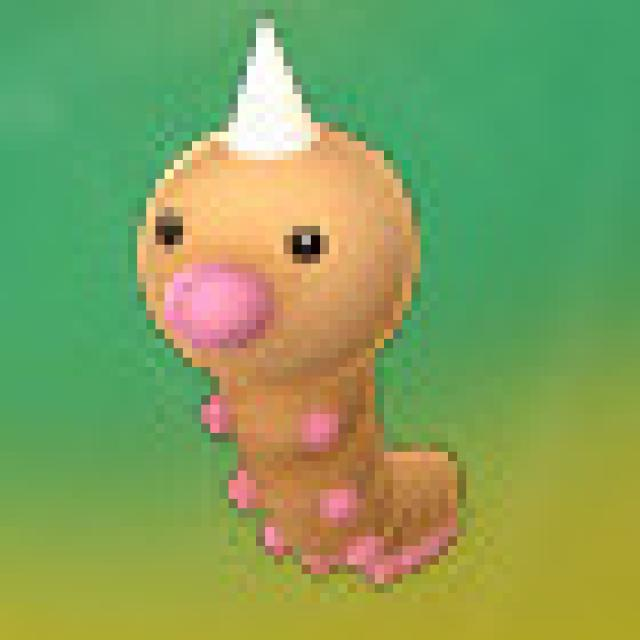Weedle: (133, 16, 469, 570)
